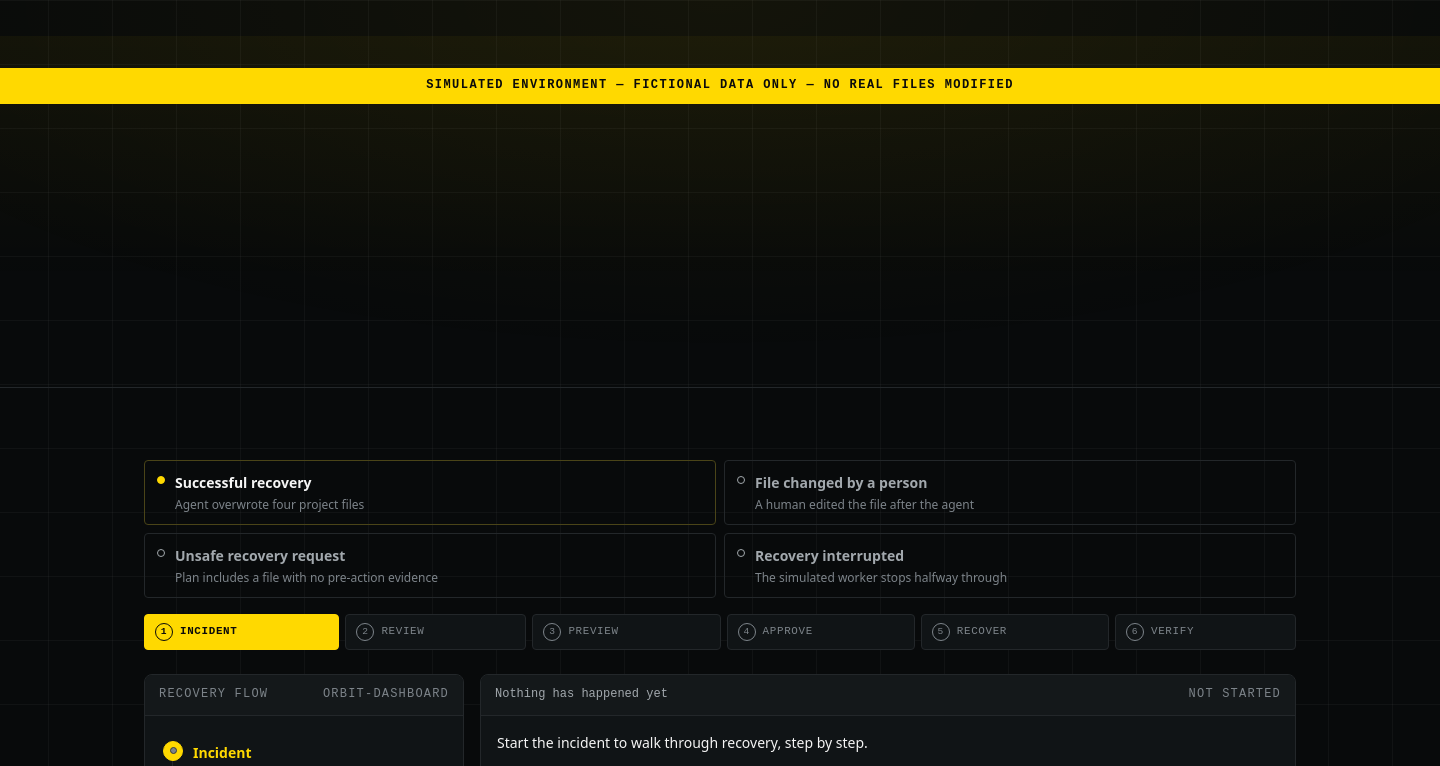
Scenario: Demo page — state transitions through the UI › refuses scenario C during planning and reports the refusal
The width and height of the screenshot is (1440, 766).
Click the button "Unsafe recovery request": point(260, 555) [144,533,716,598]
(page scrolled)
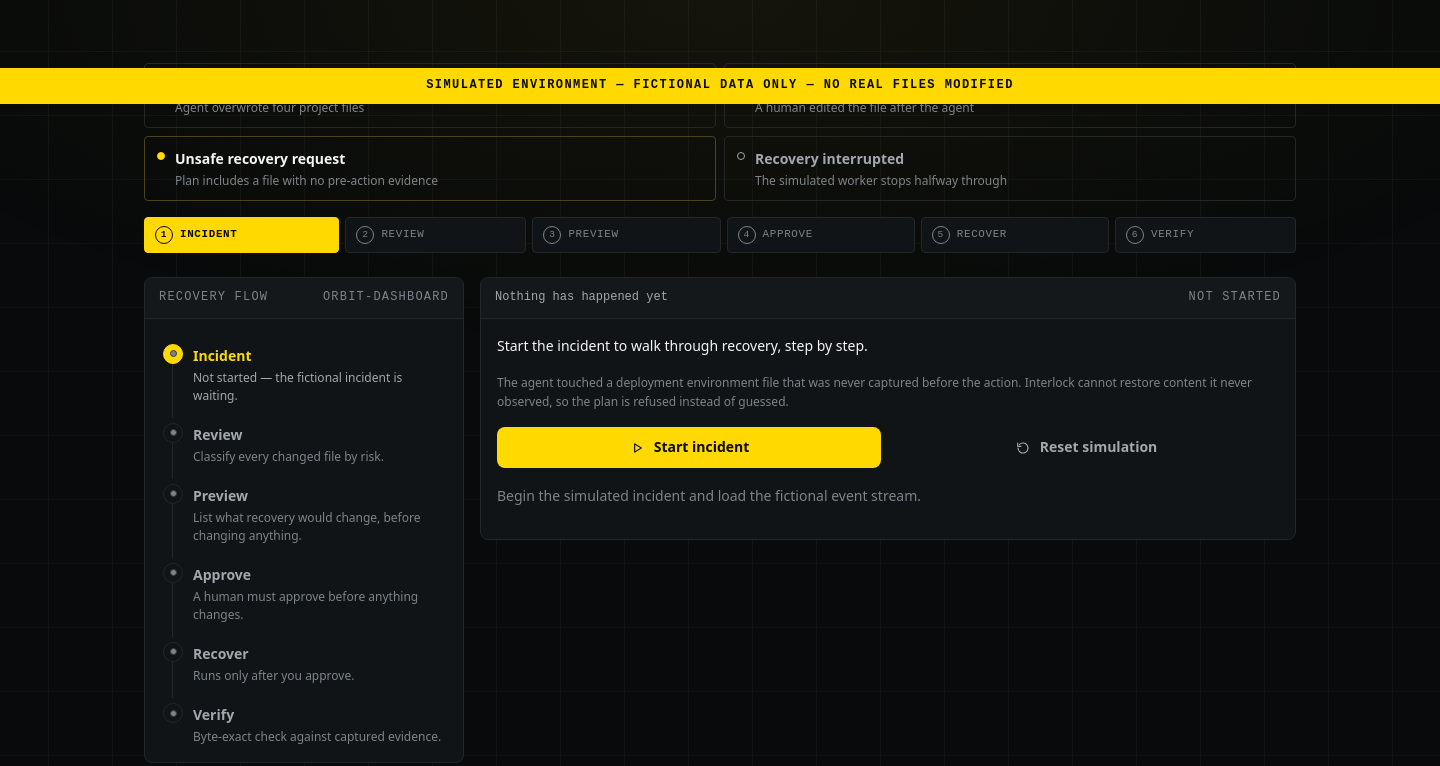
Click the button "Start incident": point(689, 448) [497,427,881,468]
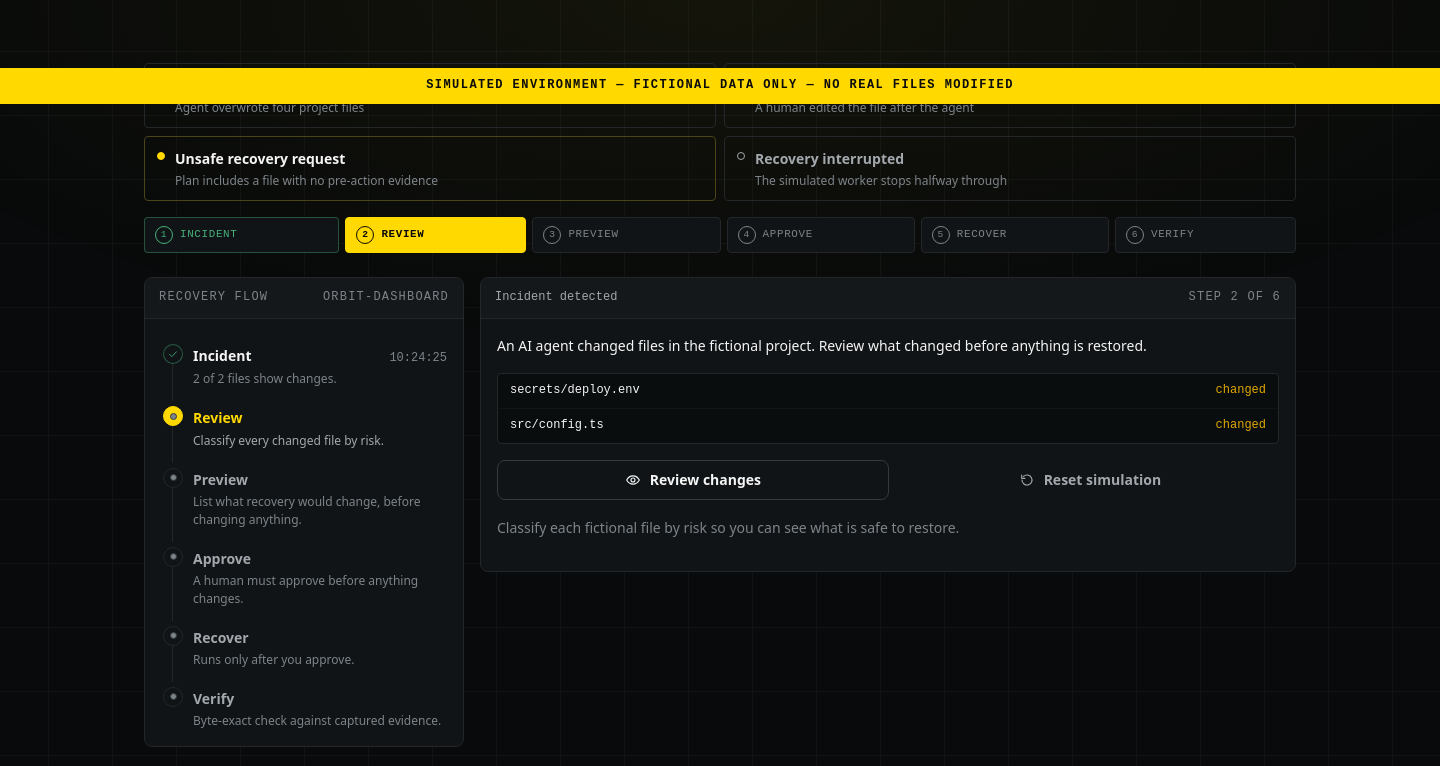
Click the button "Review changes": point(693, 480) [497,460,889,500]
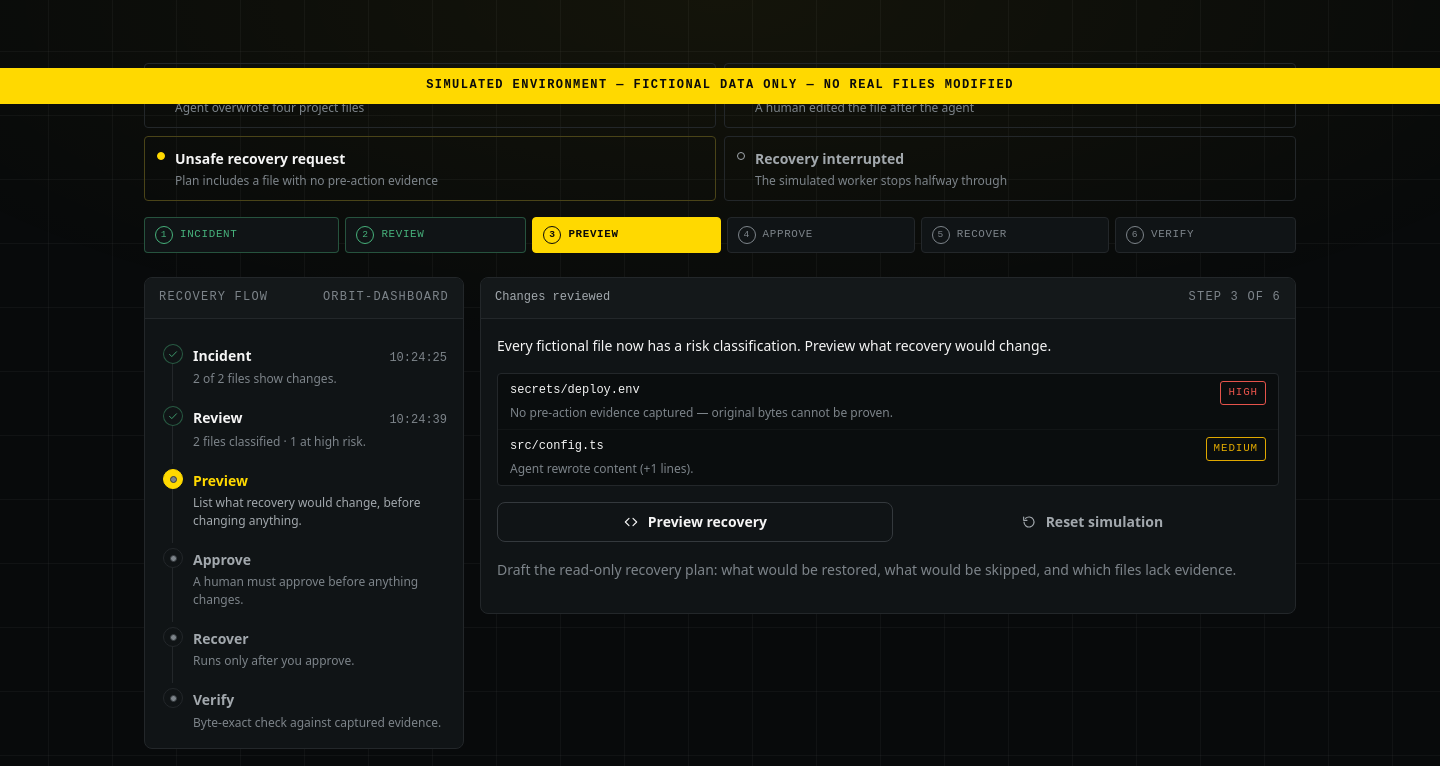
Click the button "Preview recovery": point(695, 522) [497,502,893,542]
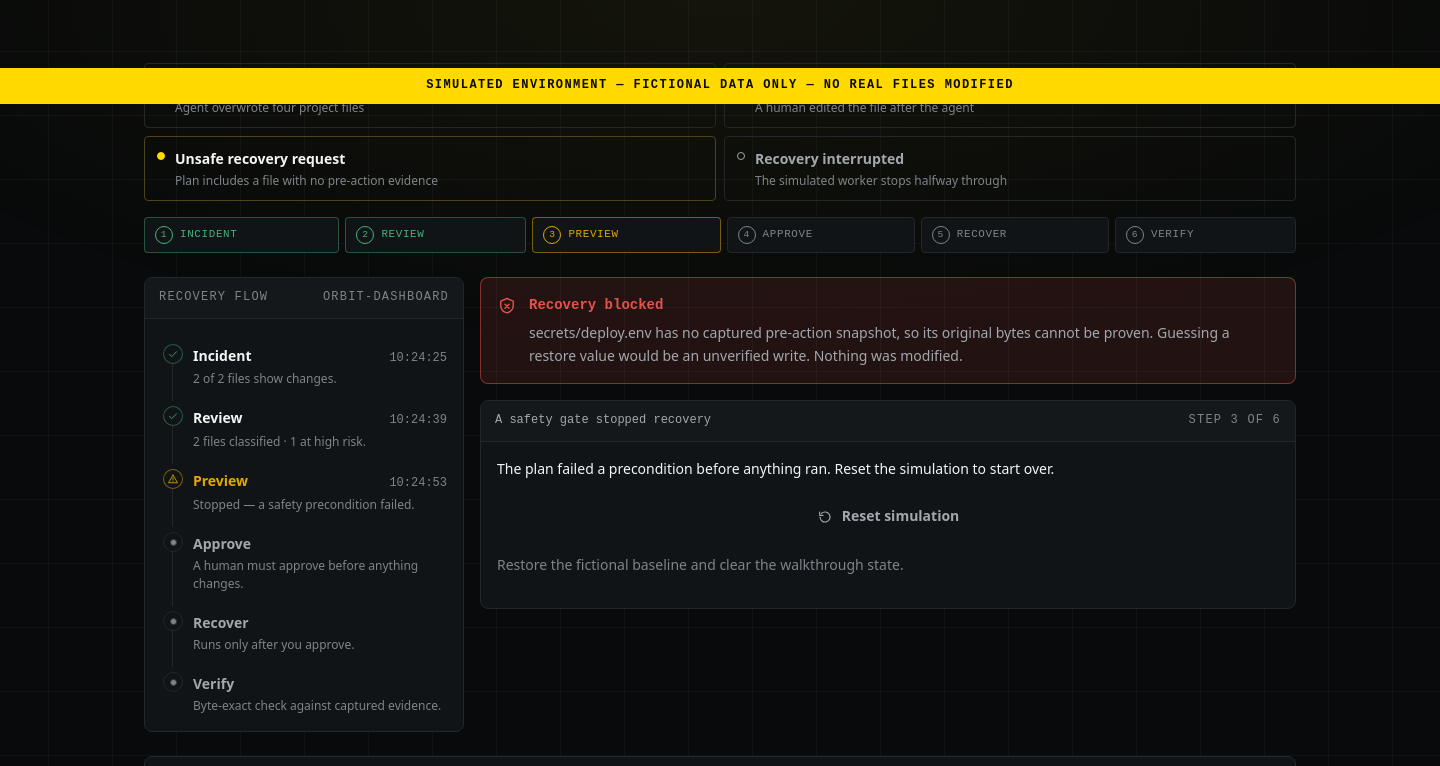
expect the button "Reset simulation" is shown: met, box [497,496,1279,537]
expect the text "Recovery blocked" is shown: met, box [529,297,663,313]
expect the text "Stopped — a safety precondition failed." is shown: met, box [193,496,447,514]
